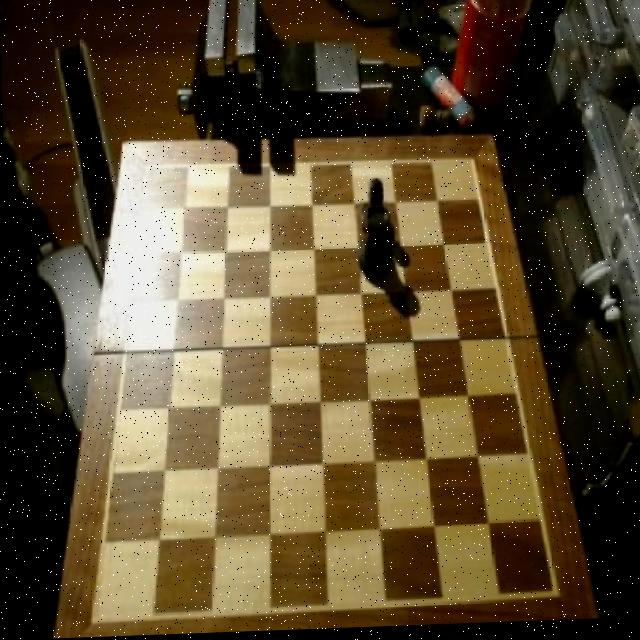black-knight: (357, 183, 386, 242)
black-queen: (353, 213, 393, 283)
